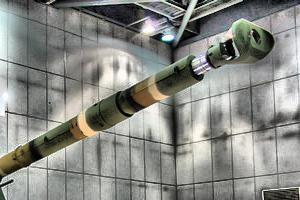tanks: (1, 23, 272, 200)
